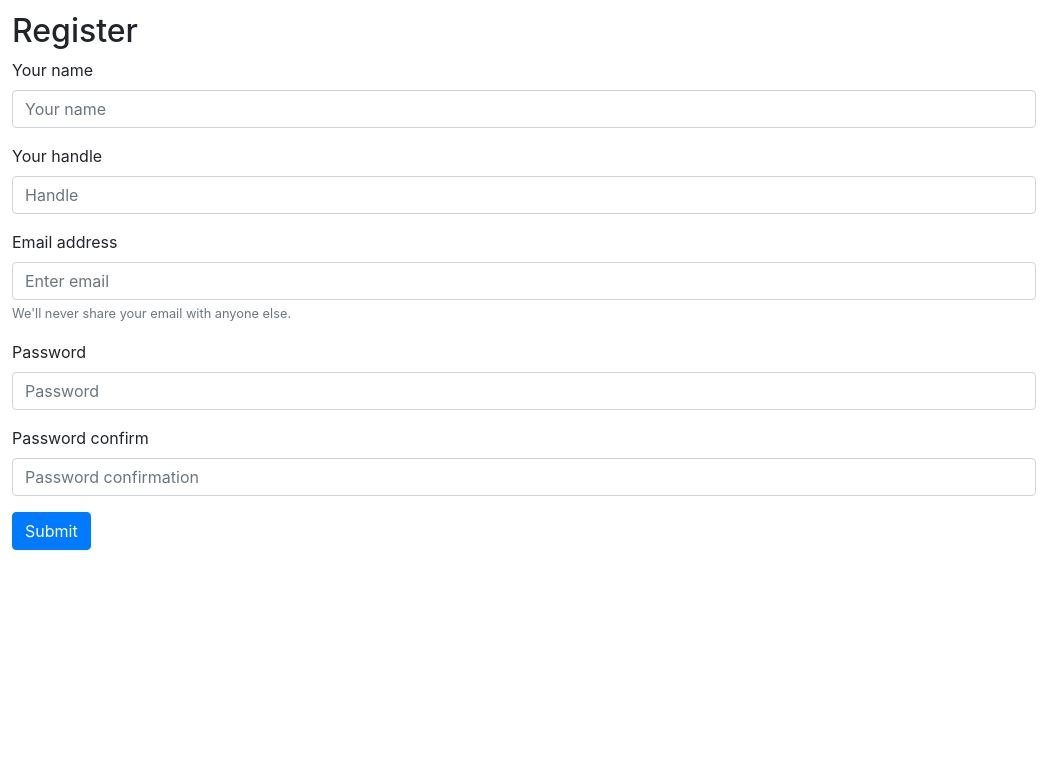
Test: Register component › should display error of › 'email taken' if email is taken
Type "tester" into the field with placeholder "Your name" at (524, 109), box [12, 90, 1036, 128]
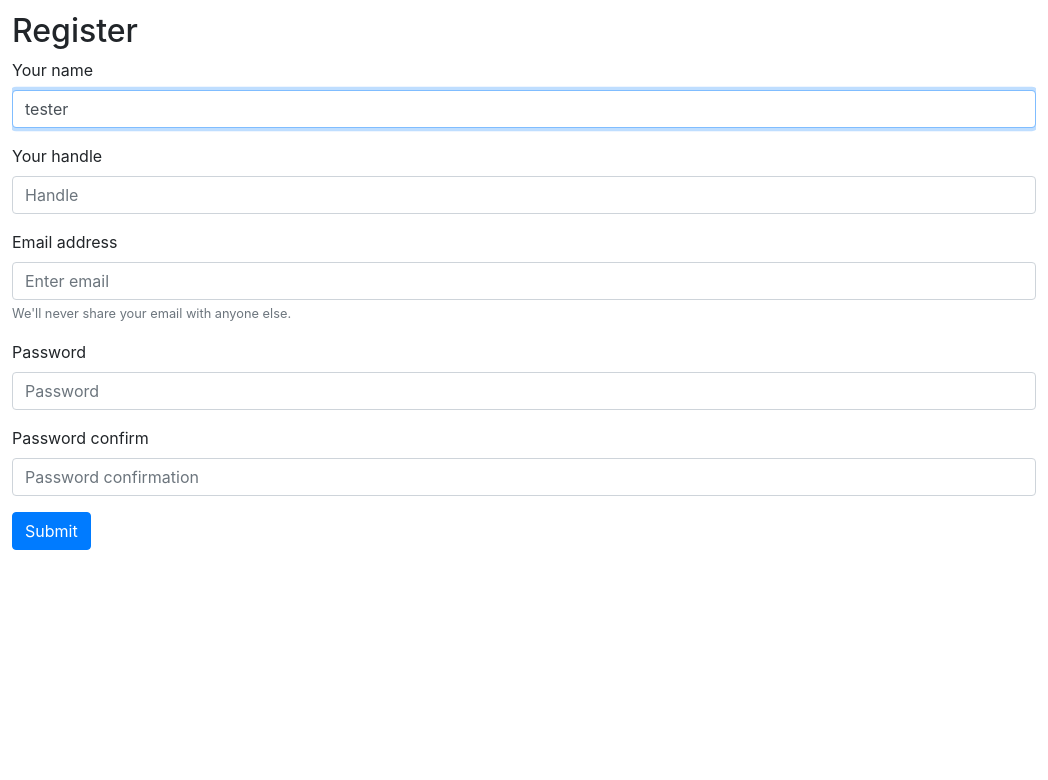
Type "testy" into the field with placeholder "handle" at (524, 195), box [12, 176, 1036, 214]
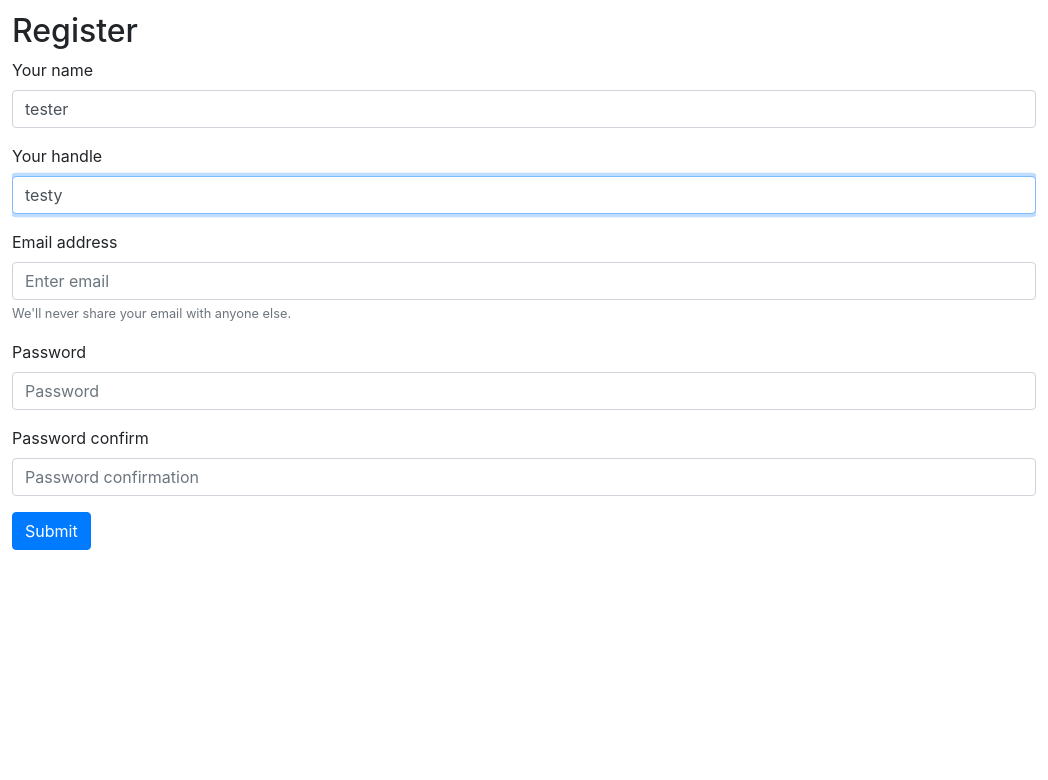
Type "takenEmail@example.com" into the field with placeholder "Enter email" at (524, 281), box [12, 262, 1036, 300]
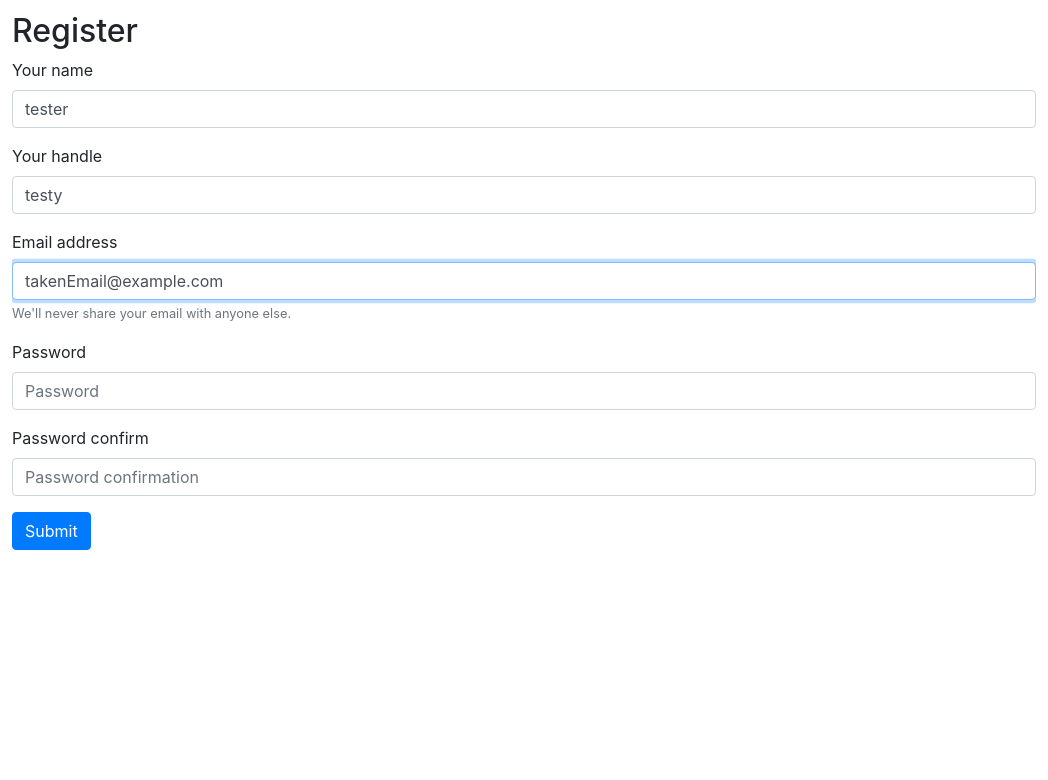
Type "testPassword" into the password field with placeholder "Password" at (524, 391), box [12, 372, 1036, 410]
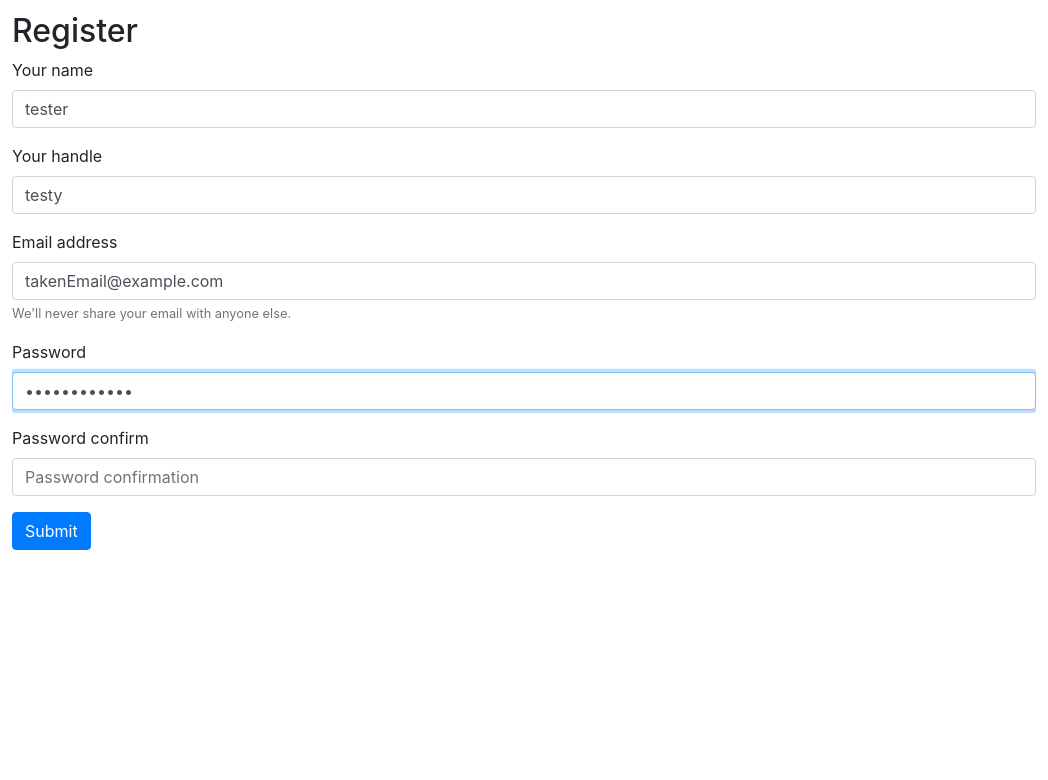
Type "testPassword" into the password field with placeholder "Password confirmation" at (524, 477), box [12, 458, 1036, 496]
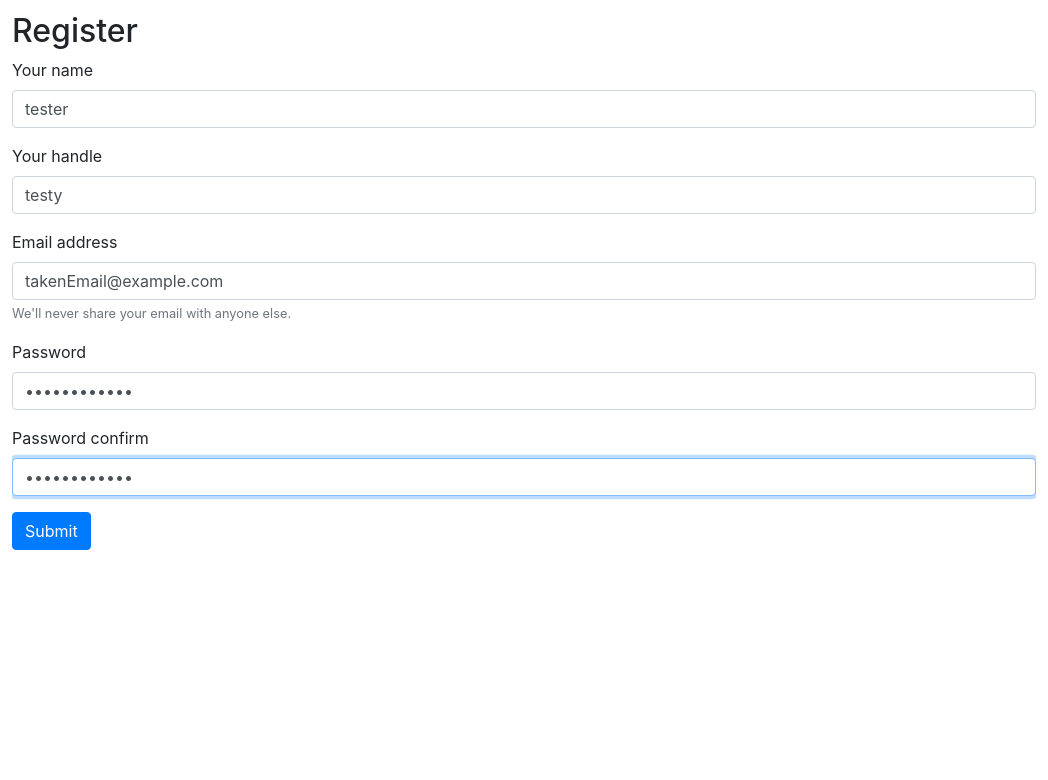
Click the button "Submit" at (51, 531), box [12, 512, 91, 550]
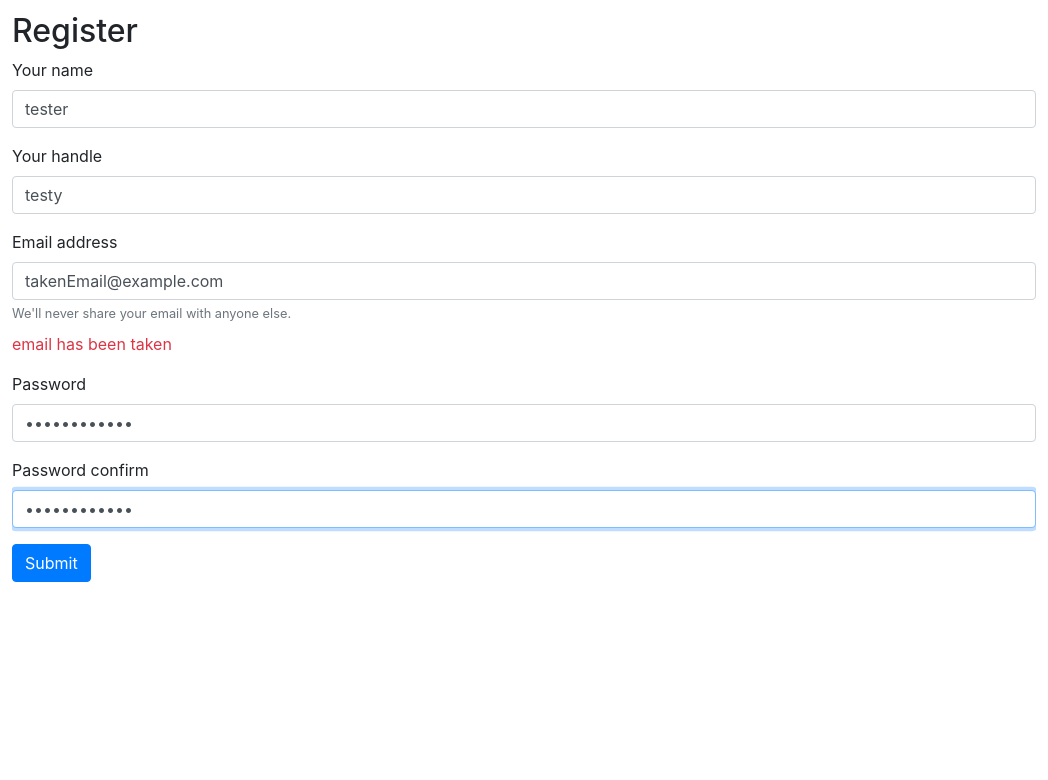
Expected: the text "email has been taken" is shown, [12, 334, 172, 354]
